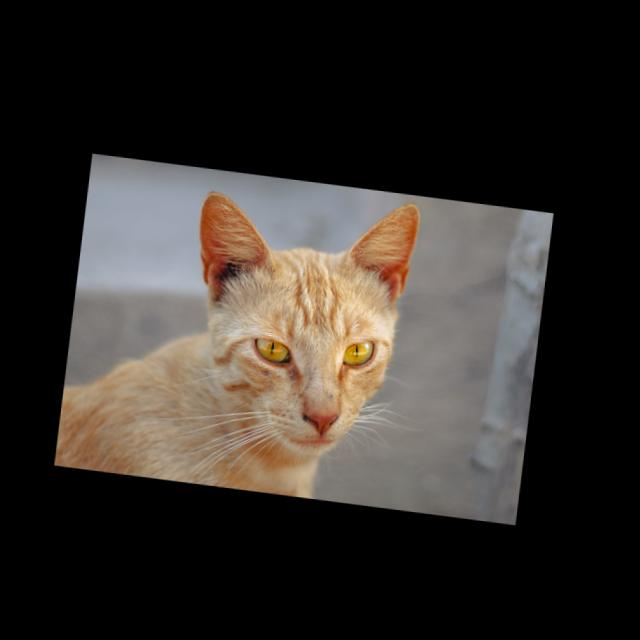animals: (58, 160, 423, 503)
